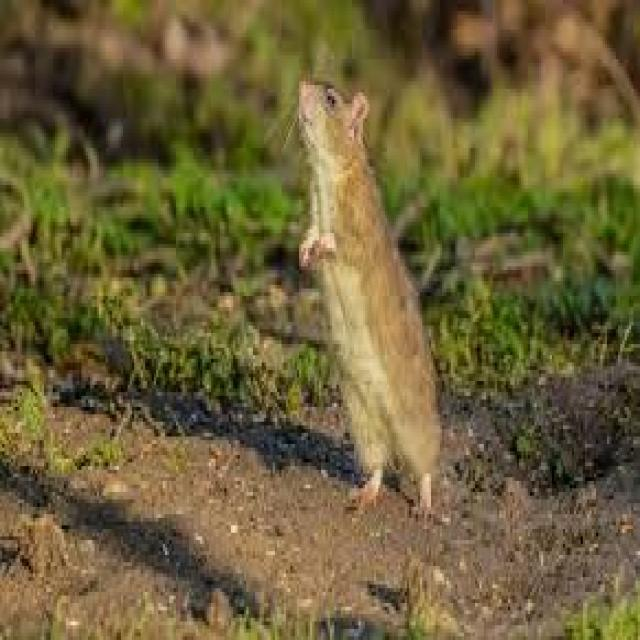Rat: (261, 44, 522, 537)
